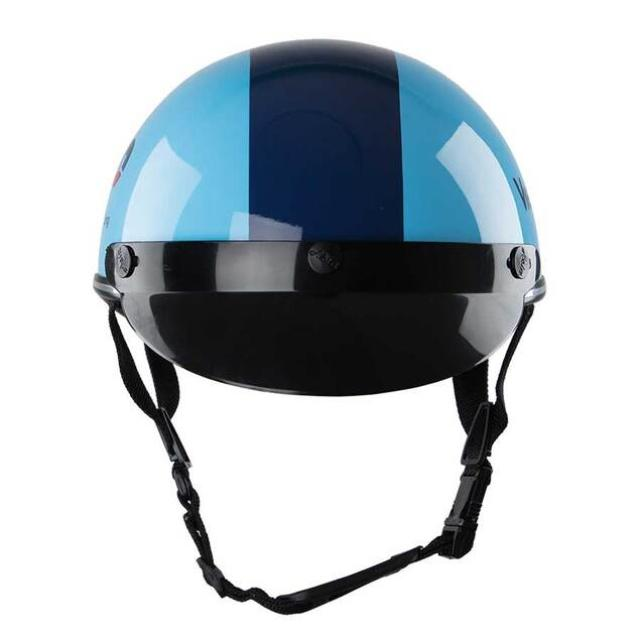Helmet: (88, 34, 551, 614)
